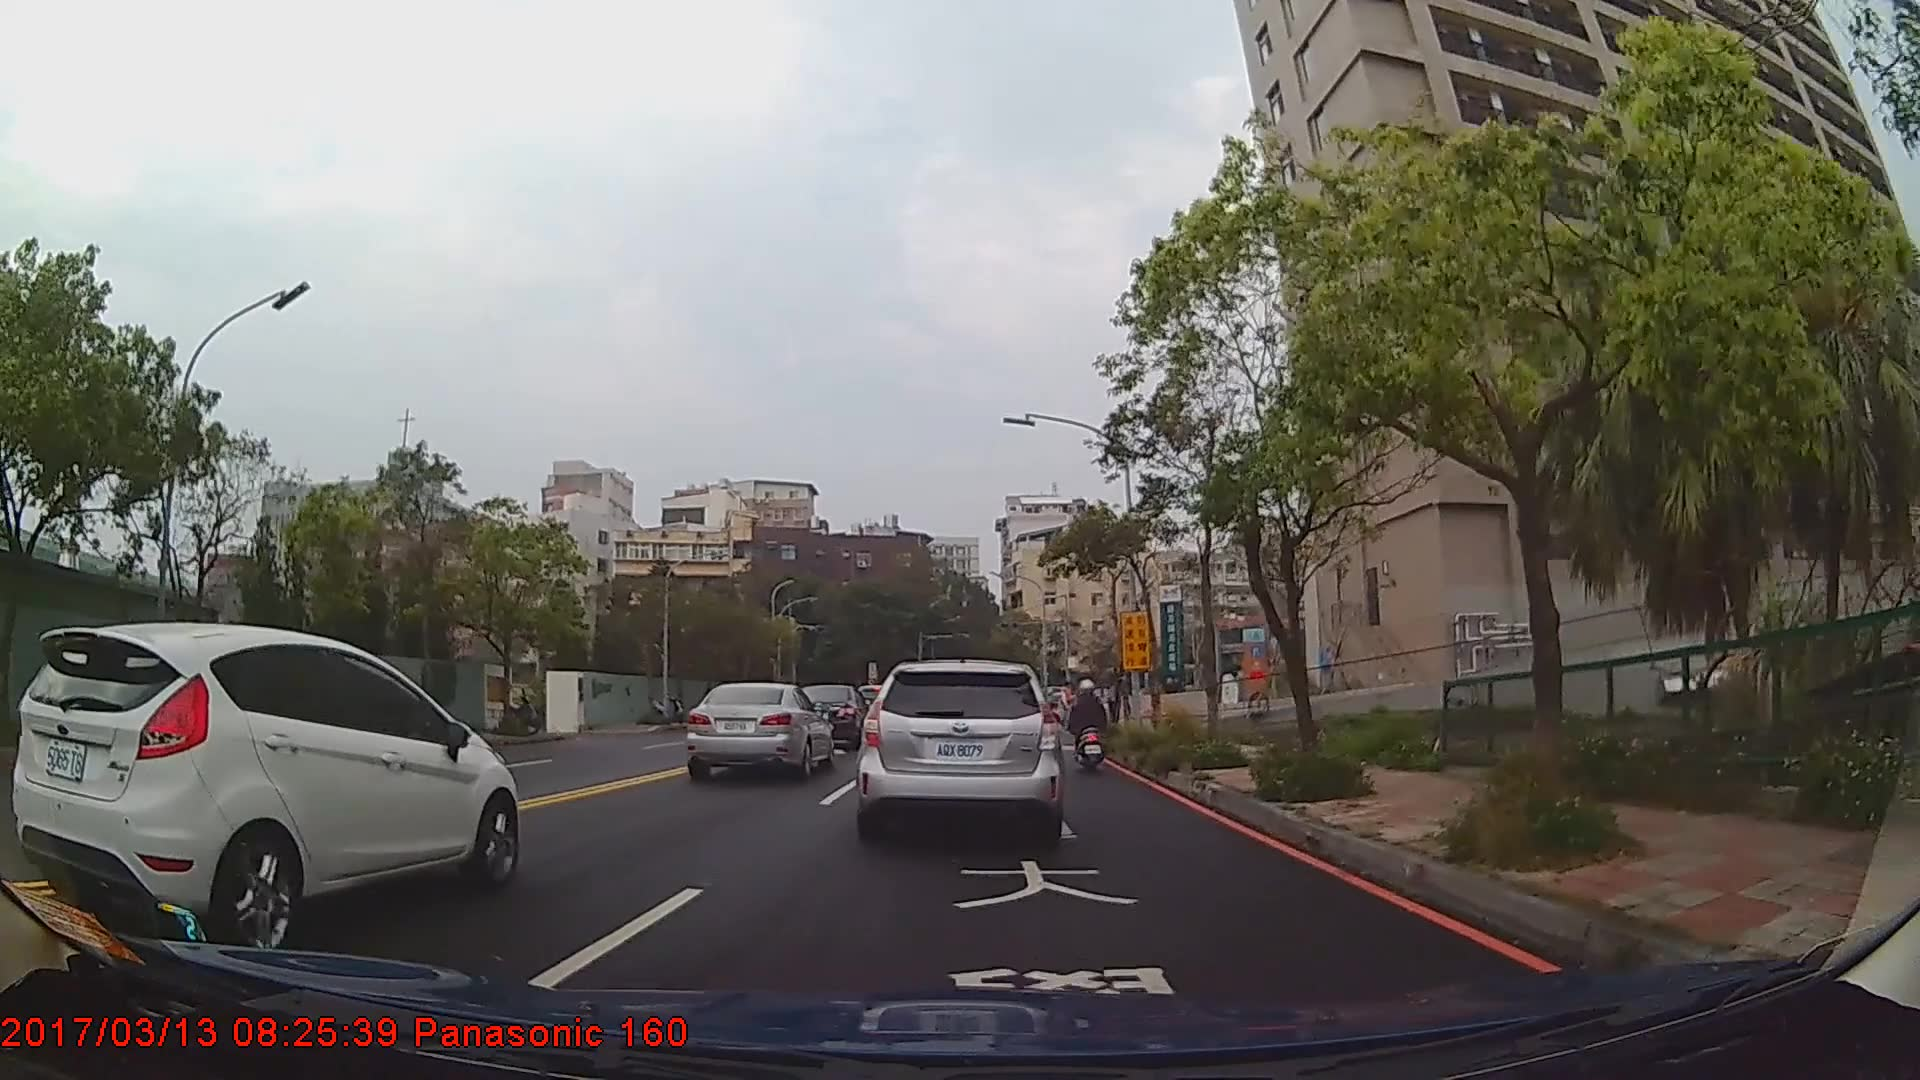rider: (1069, 680, 1111, 779)
vehicle: (12, 623, 518, 956), (855, 657, 1064, 840), (679, 681, 833, 782), (790, 684, 869, 748)
